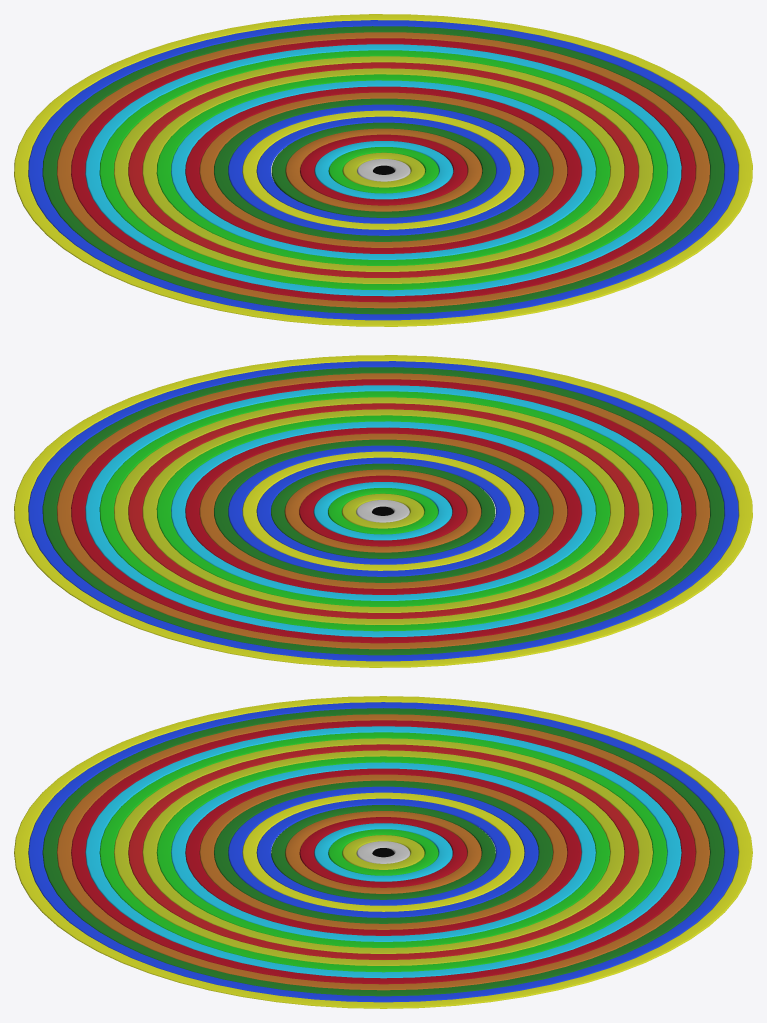
File: CircleGround.fbx
3 views of the same model, one above another, from view 1: azimuth 30°, elevation 25°; view 2: azimuth 150°, elevation 25°; view 3: azimuth 270°, elevation 25° (orthographic).
Visible parts, largest first — view 1: Ring24, Ring23, Ring22, Ring21, Ring20, Ring19, Ring18, Ring17, Ring16, Ring15, Ring14, Ring13 (+13 smaller); view 2: Ring24, Ring23, Ring22, Ring21, Ring20, Ring19, Ring18, Ring17, Ring16, Ring15, Ring14, Ring13 (+13 smaller); view 3: Ring24, Ring23, Ring22, Ring21, Ring20, Ring19, Ring18, Ring17, Ring16, Ring15, Ring14, Ring13 (+13 smaller).
Part boxes in pixels (x1,y1,x2,y2): Ring24: (14, 14, 752, 326); Ring23: (28, 20, 738, 320); Ring22: (42, 26, 724, 314); Ring21: (57, 32, 709, 308); Ring20: (71, 38, 695, 302); Ring19: (85, 44, 681, 296); Ring18: (99, 50, 667, 290); Ring17: (114, 56, 652, 283); Ring16: (128, 62, 638, 277); Ring15: (142, 68, 624, 271); Ring14: (156, 74, 610, 265); Ring13: (171, 80, 595, 259); Ring24: (14, 355, 752, 667); Ring23: (28, 361, 738, 661); Ring22: (42, 367, 724, 655); Ring21: (57, 373, 709, 649); Ring20: (71, 379, 695, 643); Ring19: (85, 385, 681, 637); Ring18: (99, 391, 667, 631); Ring17: (114, 397, 652, 624); Ring16: (128, 403, 638, 618); Ring15: (142, 409, 624, 612); Ring14: (156, 415, 610, 606); Ring13: (171, 421, 595, 600); Ring24: (14, 696, 752, 1008); Ring23: (28, 702, 738, 1002); Ring22: (42, 708, 724, 996); Ring21: (57, 714, 709, 990); Ring20: (71, 720, 695, 984); Ring19: (85, 726, 681, 978); Ring18: (99, 732, 667, 972); Ring17: (114, 738, 652, 965); Ring16: (128, 744, 638, 959); Ring15: (142, 750, 624, 953); Ring14: (156, 756, 610, 947); Ring13: (171, 762, 595, 941).
Size of the model in its own units: 1035 by 3 by 1035.
